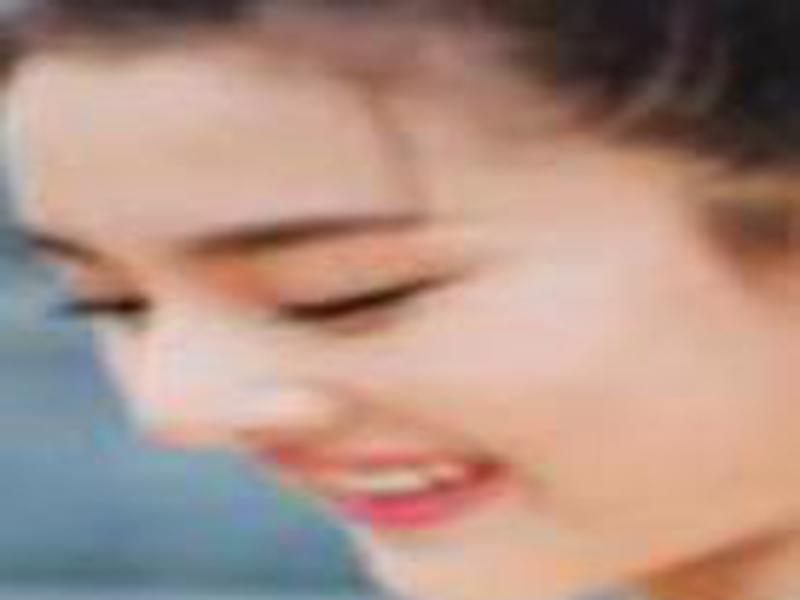without_mask: (6, 40, 757, 595)
